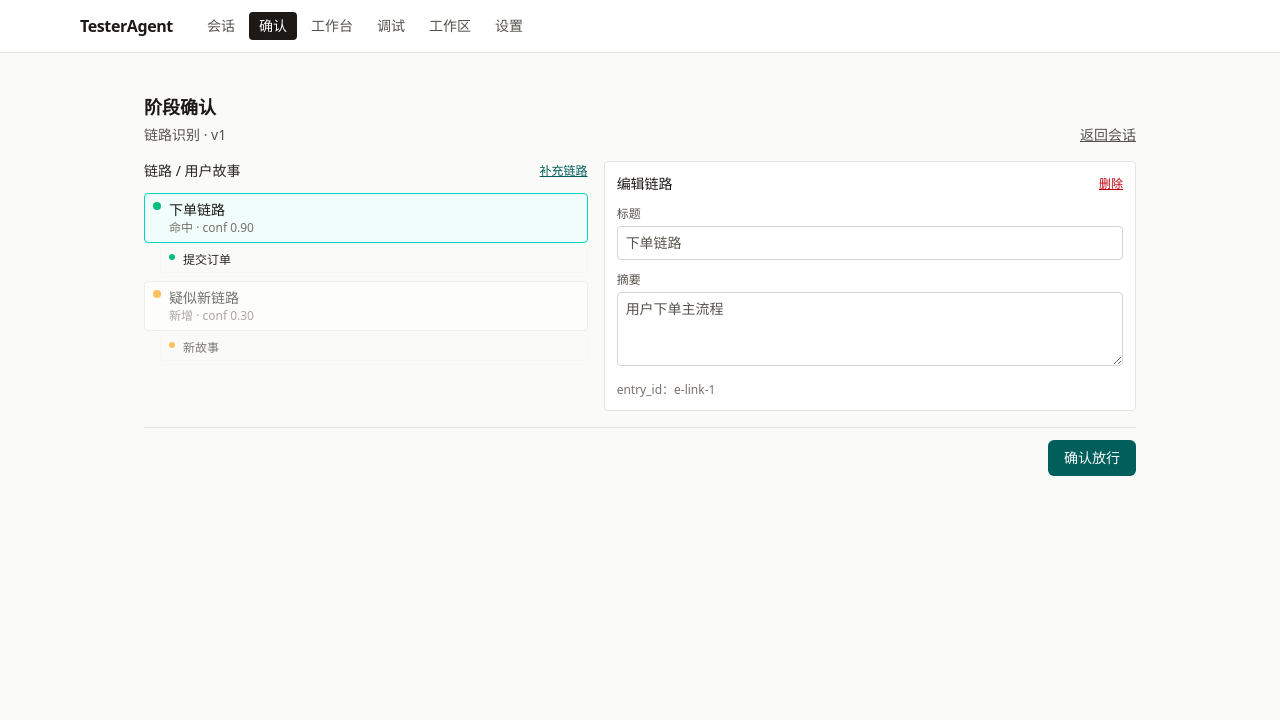
Test: WP-F2 StageConfirmPage › VERSION_CONFLICT 时提示并刷新产物
Expected: the text "下单链路" is shown, [169,200,225,219]
What coordinates should you click on to do the following:
click the button with test id "confirm-submit"
I would click on:
 (1092, 458)
Its box is [1048,440,1136,476].
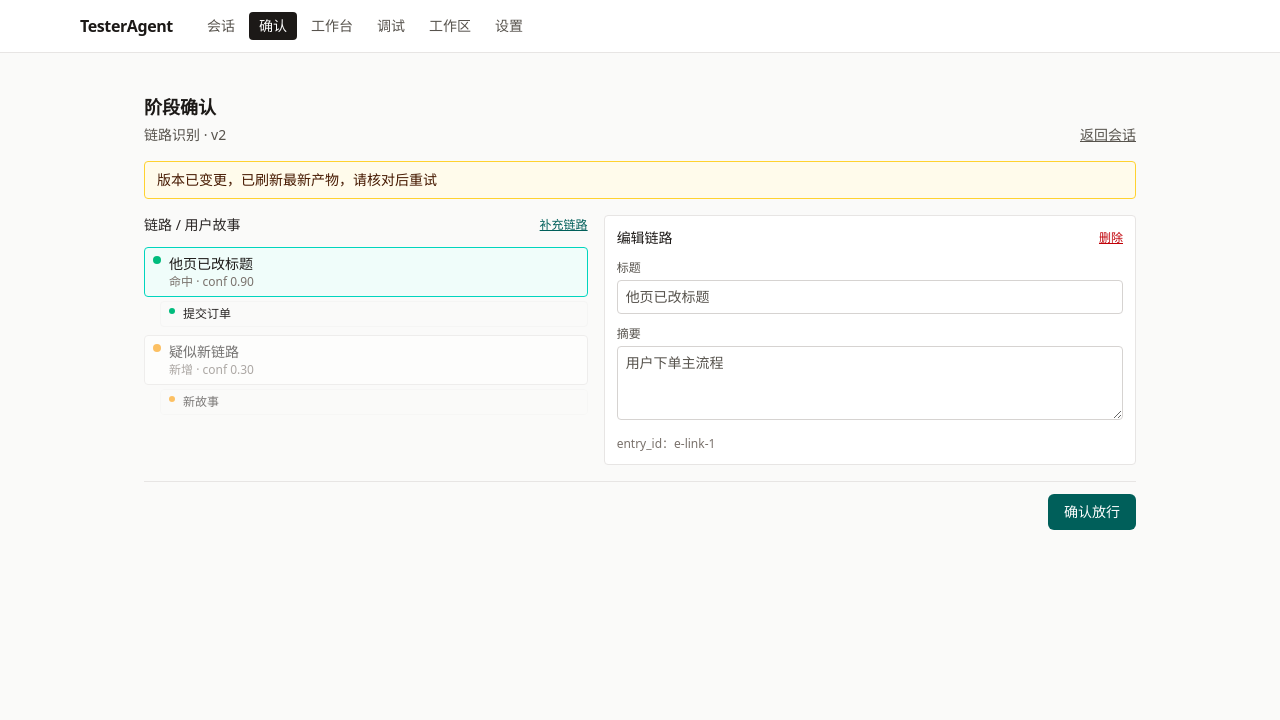
Expected: the text with test id "version-conflict" shows "版本已变更", [157,170,437,189]
Expected: the text "他页已改标题" is shown, [169,254,254,274]
